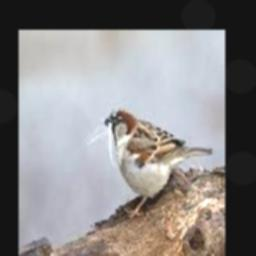Sparrow: (104, 106, 213, 217)
